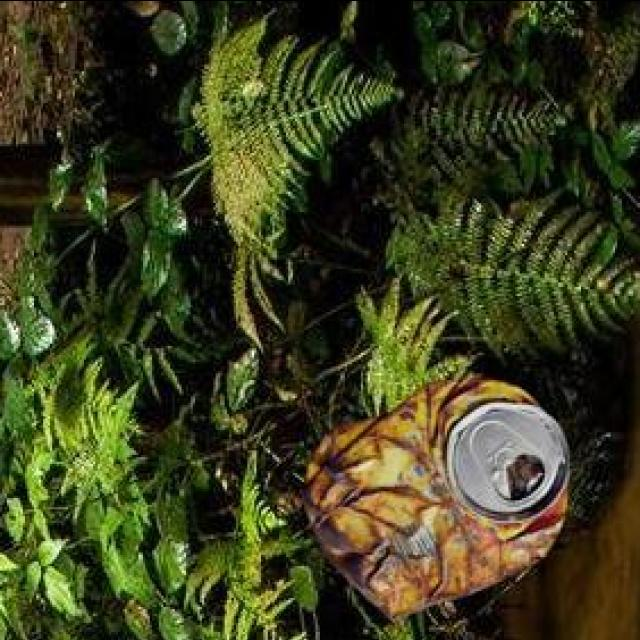logam: (298, 380, 566, 623)
